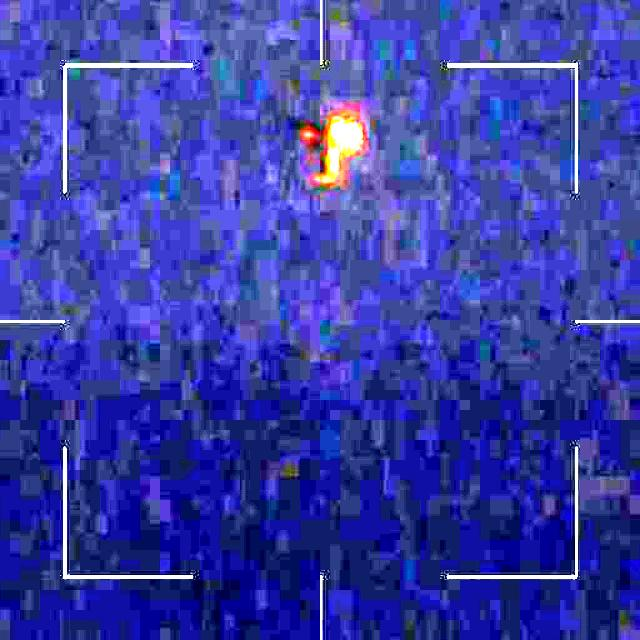bird: (281, 110, 365, 188)
